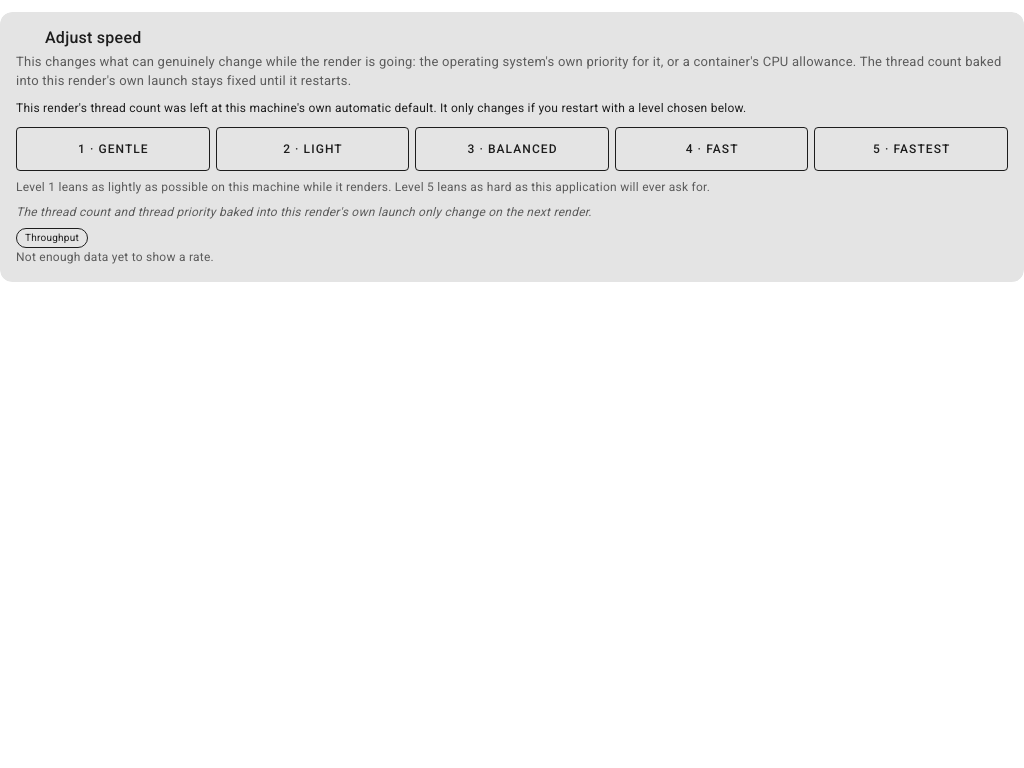
a render on the local route › offers restarting as an explicit choice rather than doing it automatically
Expected: the text "Restart at this level" is not shown
Click the button "2 · Light": (312, 149) [216, 127, 409, 171]
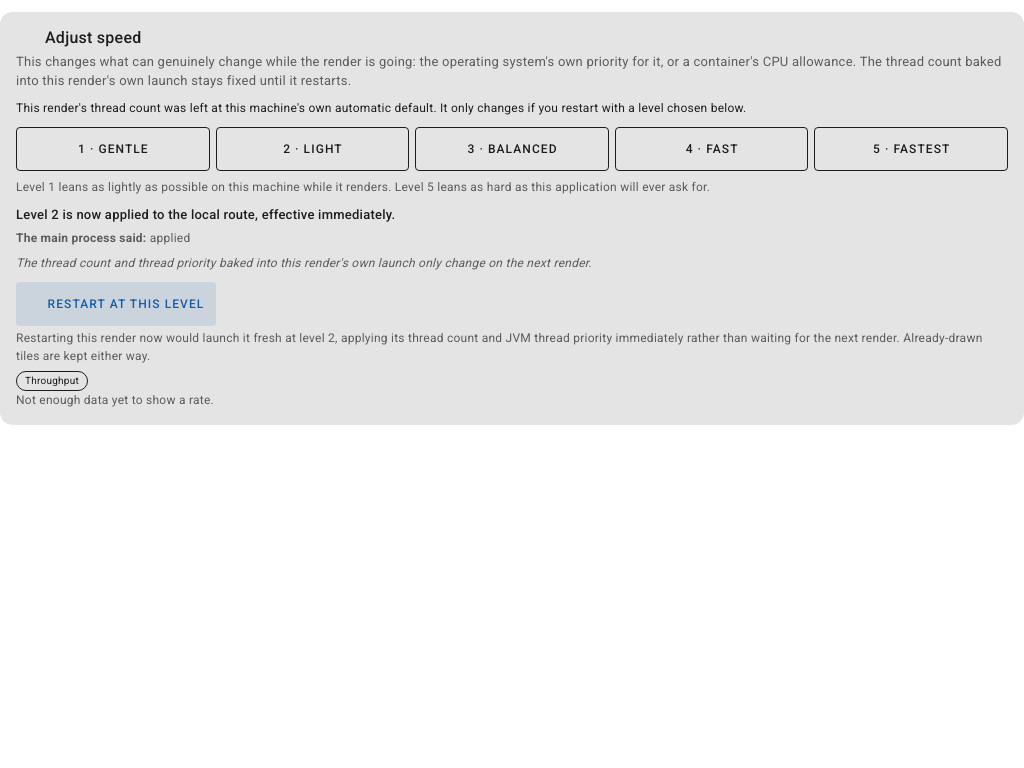
Expected: the text "Restart at this level" is shown, [46, 297, 204, 311]
